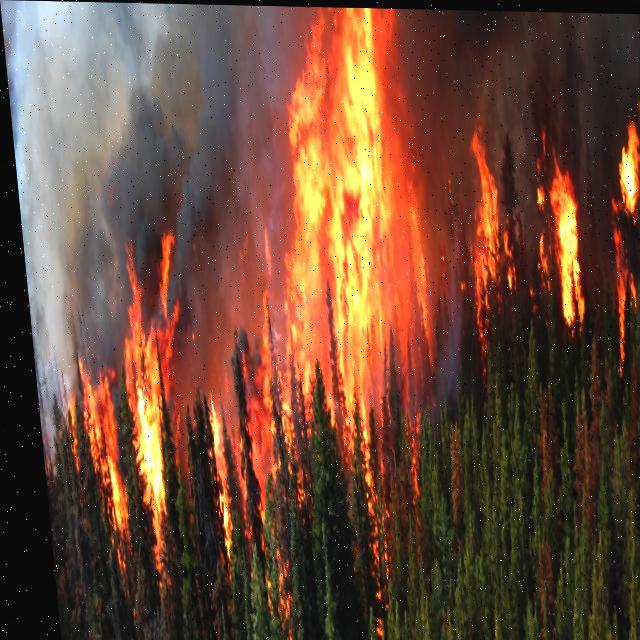Fire: (10, 13, 639, 606)
